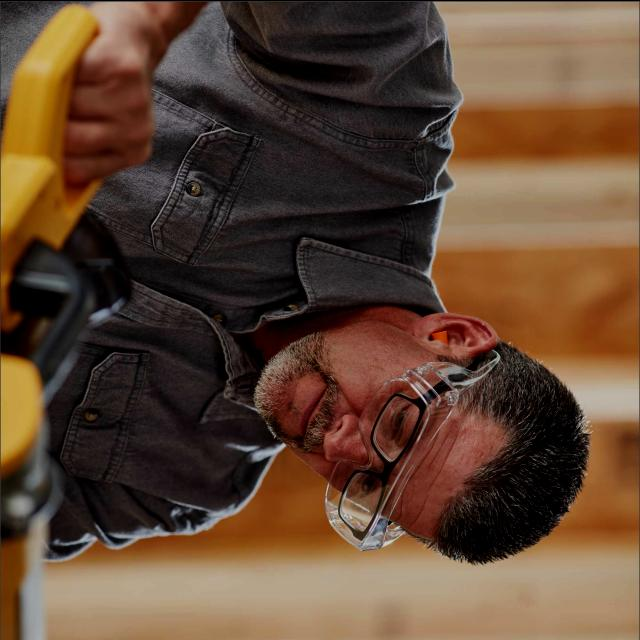Safety Glasses: (324, 344, 498, 564)
